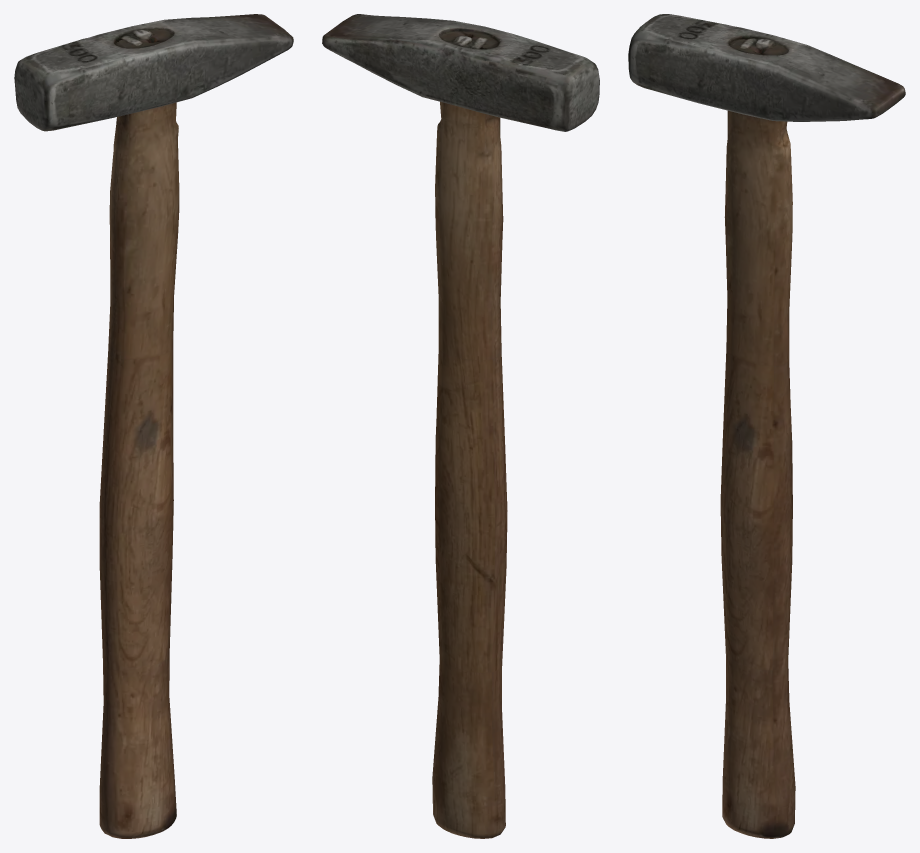
File: cross_pein_hammer.glb
3 views of the same model, side by side, from view 1: azimuth 30°, elevation 25°; view 2: azimuth 150°, elevation 25°; view 3: azimuth 330°, elevation 25° (orthographic).
Visible parts, largest first — view 1: cross_pein_hammer; view 2: cross_pein_hammer; view 3: cross_pein_hammer.
Boxes of the visible parts, bbox=[...] form: cross_pein_hammer: bbox=[14, 14, 293, 838]; cross_pein_hammer: bbox=[322, 14, 599, 838]; cross_pein_hammer: bbox=[628, 14, 905, 838].
Size of the model in its own units: 0.099 by 0.3002 by 0.0243.
Materials: 1 (1 with a texture image).
